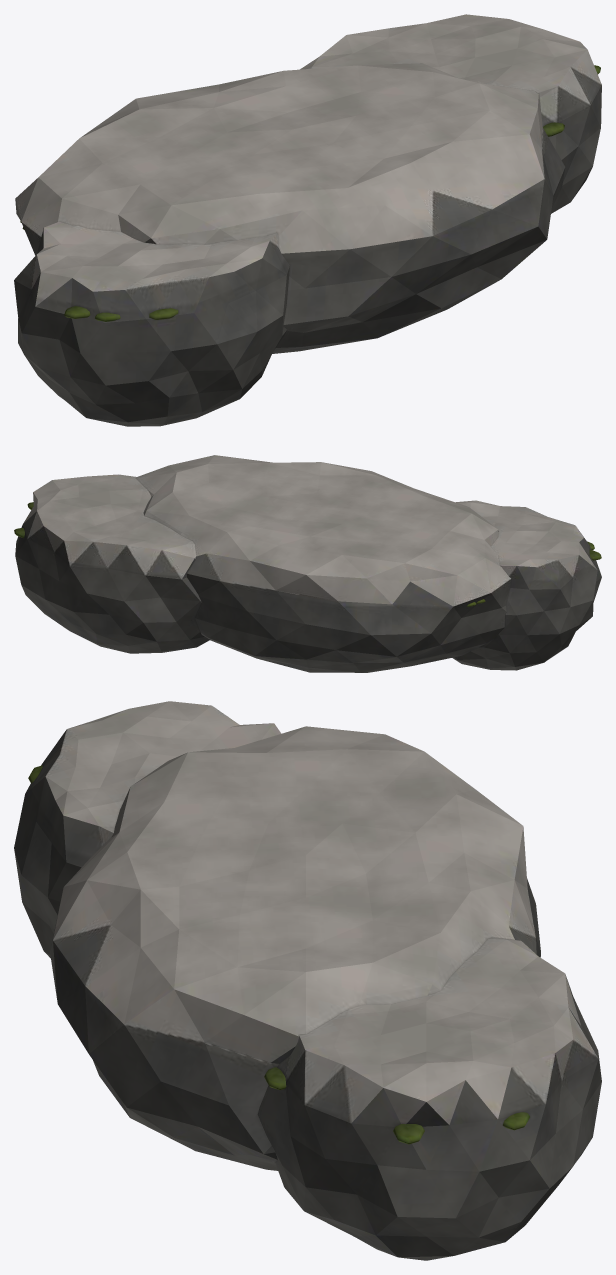
Rendered from sea_rock.glb.
3 views of the same model, one above another, from view 1: azimuth 30°, elevation 25°; view 2: azimuth 150°, elevation 25°; view 3: azimuth 270°, elevation 25° (orthographic). The views are drawn at different scales.
Parts seen in each view (by area): view 1: sea_rock; view 2: sea_rock; view 3: sea_rock.
Boxes of the visible parts, bbox=[...] form: sea_rock: bbox=[14, 14, 601, 426]; sea_rock: bbox=[14, 455, 601, 672]; sea_rock: bbox=[14, 701, 601, 1260].
Size of the model in its own units: 2.5 by 0.7292 by 1.46.
Materials: 1 (1 with a texture image).
